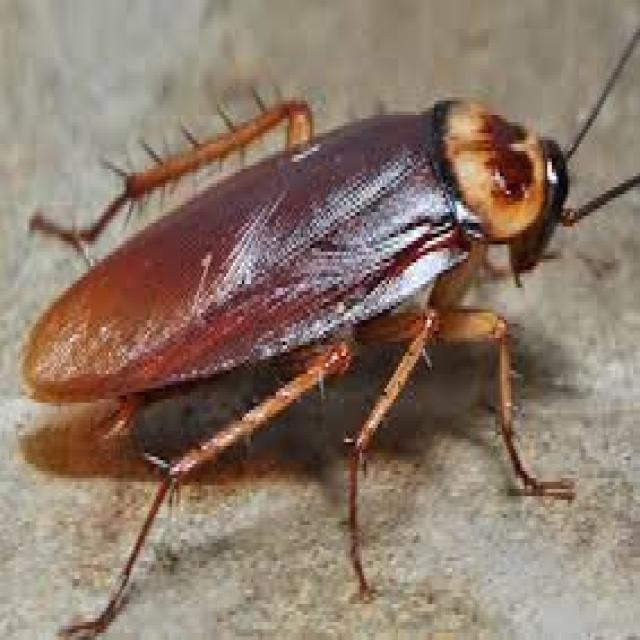Cockroach: (16, 69, 583, 522)
